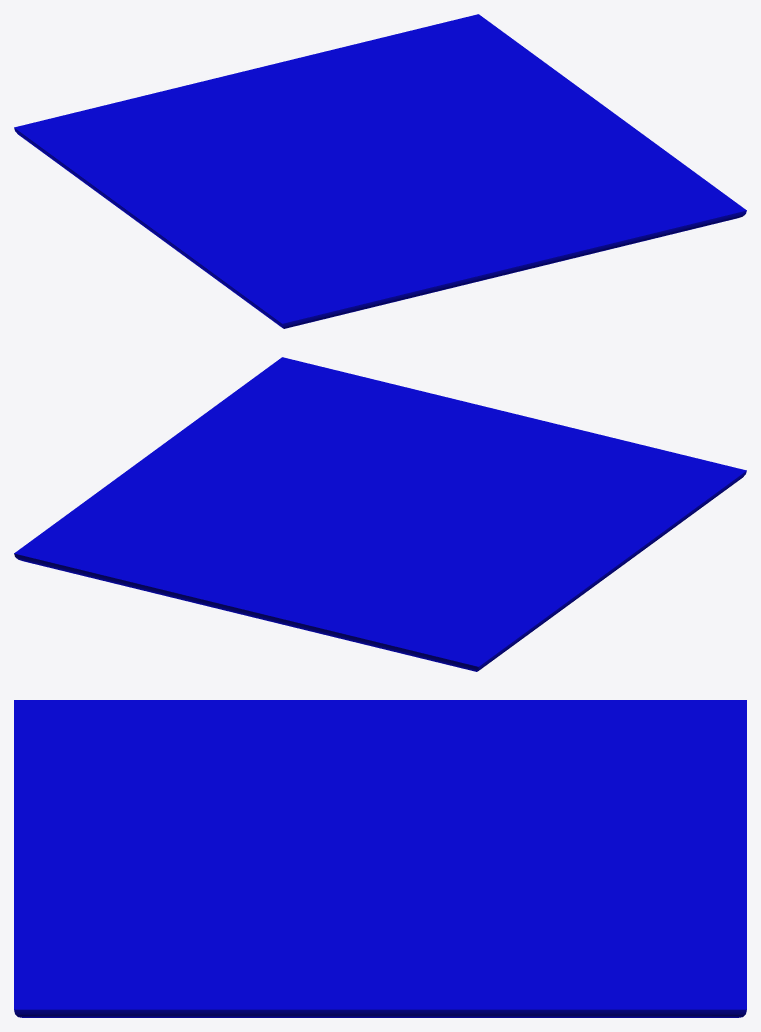
Rendered from toit.fbx.
The picture shows the model from 3 angles, top to bottom: view 1: azimuth 30°, elevation 25°; view 2: azimuth 150°, elevation 25°; view 3: azimuth 270°, elevation 25°; orthographic projection. The views are drawn at different scales.
Visible parts, largest first — view 1: toit; view 2: toit; view 3: toit.
Boxes of the visible parts, box(x1,y1,x2,y2) form: toit: box(14, 14, 746, 328); toit: box(14, 357, 746, 671); toit: box(14, 700, 746, 1017).
Size of the model in its own units: 23.98 by 0.4651 by 23.98.
